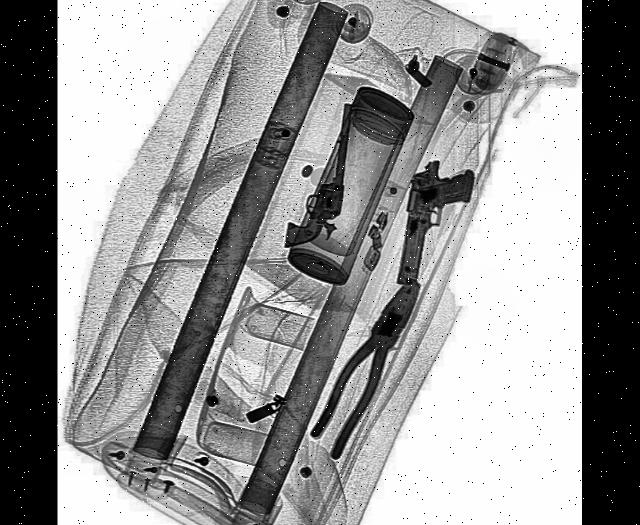Gun: (284, 92, 354, 258), (396, 152, 475, 298)
Pliers: (306, 263, 432, 460)
